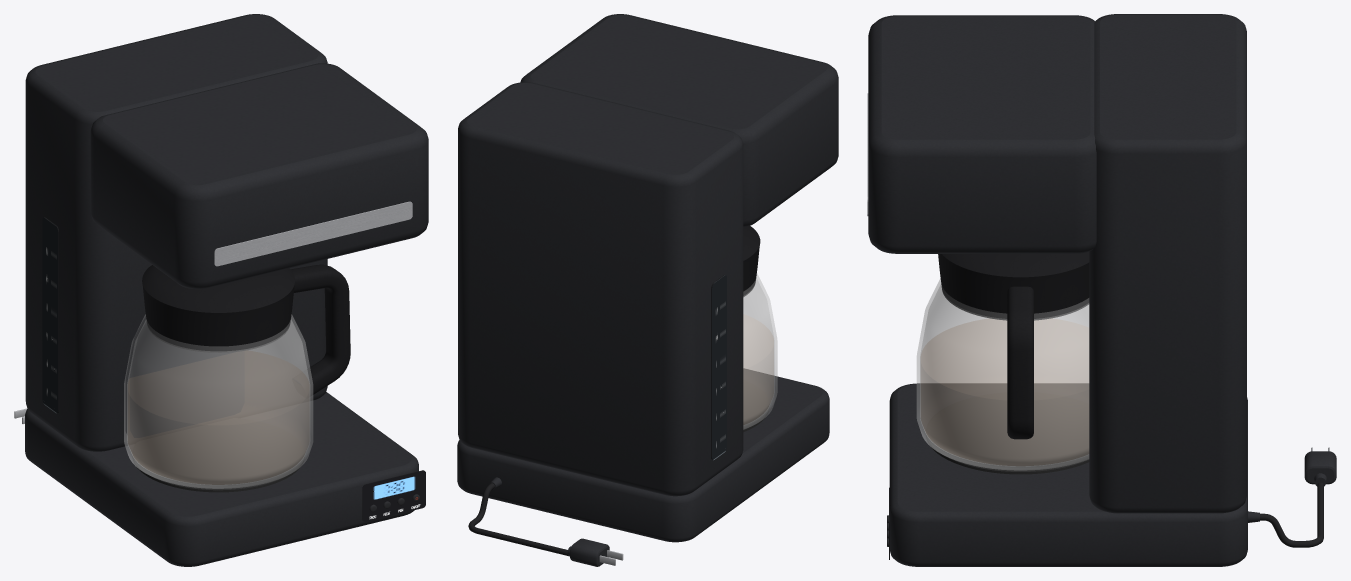
The model's file is coffee-maker.glb.
The picture shows the model from 3 angles, left to right: view 1: azimuth 30°, elevation 25°; view 2: azimuth 150°, elevation 25°; view 3: azimuth 270°, elevation 25°; orthographic projection. The views are drawn at different scales.
Parts seen in each view (by area): view 1: Reservoir tower, Brew hood, Base, Glass carafe, Carafe lid and handle, Coffee, Warming plate, Hood trim band, Water window, Control panel; view 2: Reservoir tower, Brew hood, Base, Glass carafe, Coffee, Water window, Mains cord, Warming plate, Carafe lid and handle, Mains plug; view 3: Reservoir tower, Brew hood, Base, Glass carafe, Coffee, Carafe lid and handle, Warming plate, Mains cord, Mains plug.
Part boxes in pixels (x1=…): Reservoir tower: x1=25, y1=14, x2=327, y2=451; Brew hood: x1=90, y1=63, x2=428, y2=289; Base: x1=25, y1=392, x2=418, y2=566; Glass carafe: x1=124, y1=314, x2=312, y2=488; Carafe lid and handle: x1=142, y1=264, x2=350, y2=398; Coffee: x1=128, y1=350, x2=309, y2=484; Warming plate: x1=132, y1=418, x2=304, y2=492; Hood trim band: x1=214, y1=201, x2=412, y2=266; Water window: x1=42, y1=217, x2=58, y2=413; Control panel: x1=362, y1=470, x2=425, y2=521; Reservoir tower: x1=458, y1=82, x2=743, y2=496; Brew hood: x1=520, y1=14, x2=838, y2=227; Base: x1=457, y1=368, x2=829, y2=542; Glass carafe: x1=743, y1=273, x2=777, y2=429; Coffee: x1=743, y1=314, x2=773, y2=424; Water window: x1=711, y1=275, x2=726, y2=460; Mains cord: x1=468, y1=477, x2=569, y2=556; Warming plate: x1=743, y1=380, x2=769, y2=432; Carafe lid and handle: x1=743, y1=226, x2=760, y2=296; Mains plug: x1=567, y1=538, x2=609, y2=566; Reservoir tower: x1=1089, y1=14, x2=1246, y2=513; Brew hood: x1=868, y1=15, x2=1096, y2=253; Base: x1=889, y1=383, x2=1247, y2=566; Glass carafe: x1=917, y1=278, x2=1089, y2=470; Coffee: x1=921, y1=318, x2=1088, y2=465; Carafe lid and handle: x1=938, y1=251, x2=1089, y2=439; Warming plate: x1=926, y1=392, x2=1089, y2=474; Mains cord: x1=1248, y1=482, x2=1323, y2=547; Mains plug: x1=1304, y1=451, x2=1336, y2=486.
Bounding box in the file's own units: 0.2388 × 0.356 × 0.3512.
Materials: 13 (13 with a texture image).
